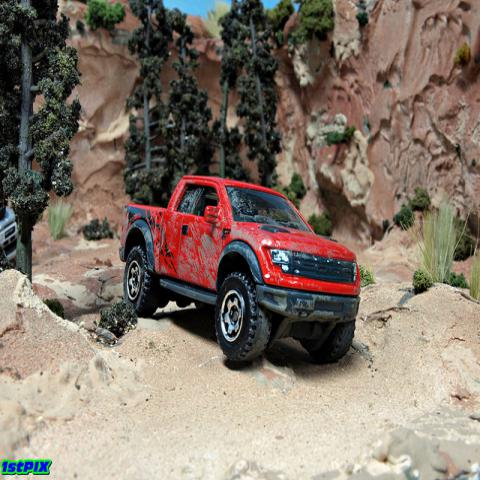truck: (118, 181, 360, 363)
